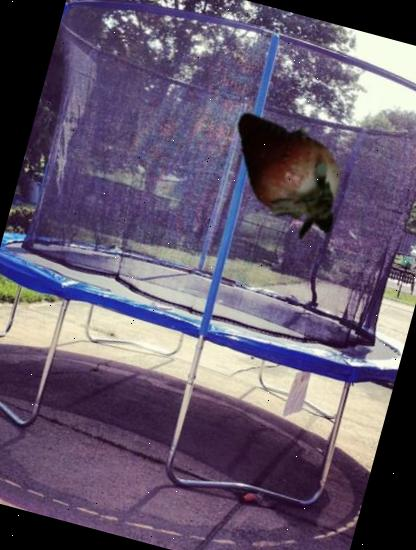Strawberry: (206, 95, 365, 254)
